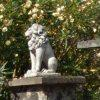Statue: (14, 2, 69, 79)
